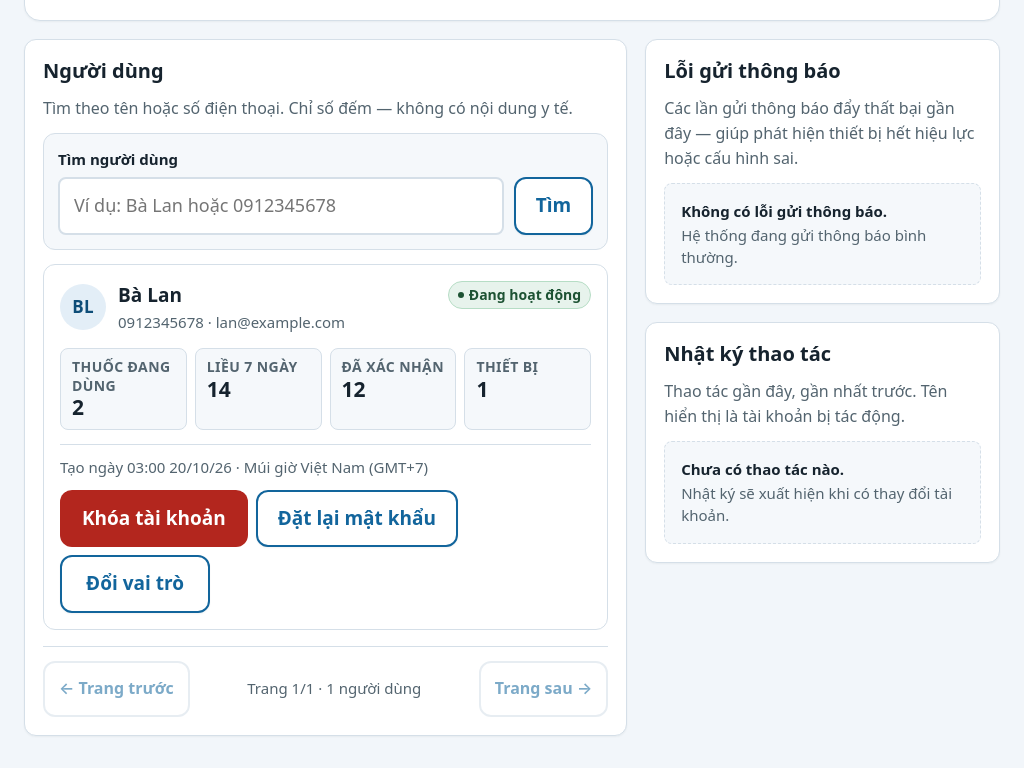
it: Khu vực quản trị (chỉ đọc + khóa/mật khẩu) › khóa tài khoản: xác nhận trong hộp thoại → gọi API disabled=true
This screenshot has width=1024, height=768.
(page scrolled)
Check: the heading "Bà Lan" is shown, box [118,282,182,308]
Click the button with aria-label "Khóa tài khoản Bà Lan". click: (154, 519)
box: [60,490,248,547]
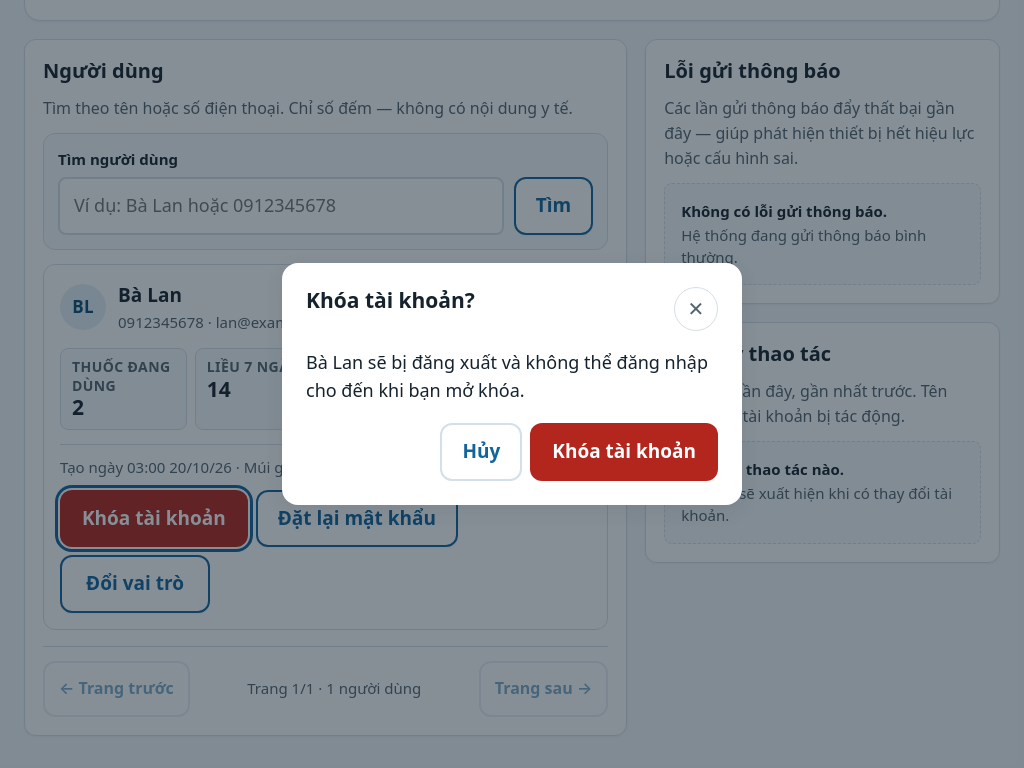
Check: the text "sẽ bị đăng xuất" is shown, box [306,350,708,402]
Click the button "Khóa tài khoản". click: (624, 452)
box: [530,423,718,481]
(page scrolled)
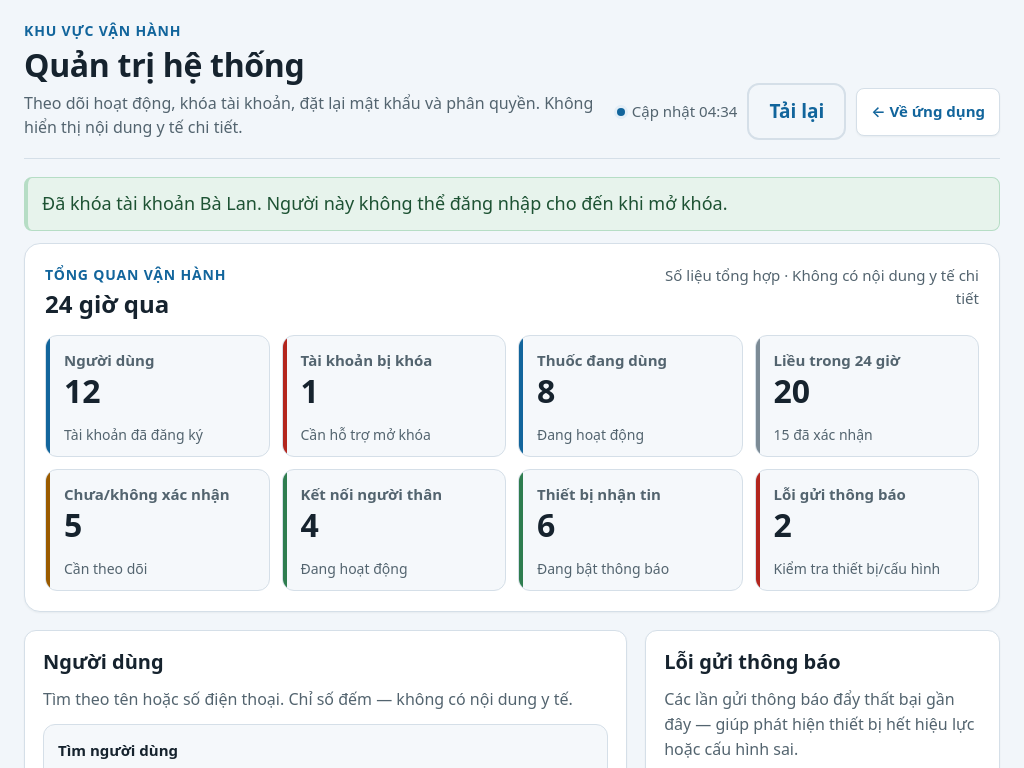
Check: the text "Đã khóa tài khoản Bà Lan" is shown, box [42,191,728,215]
